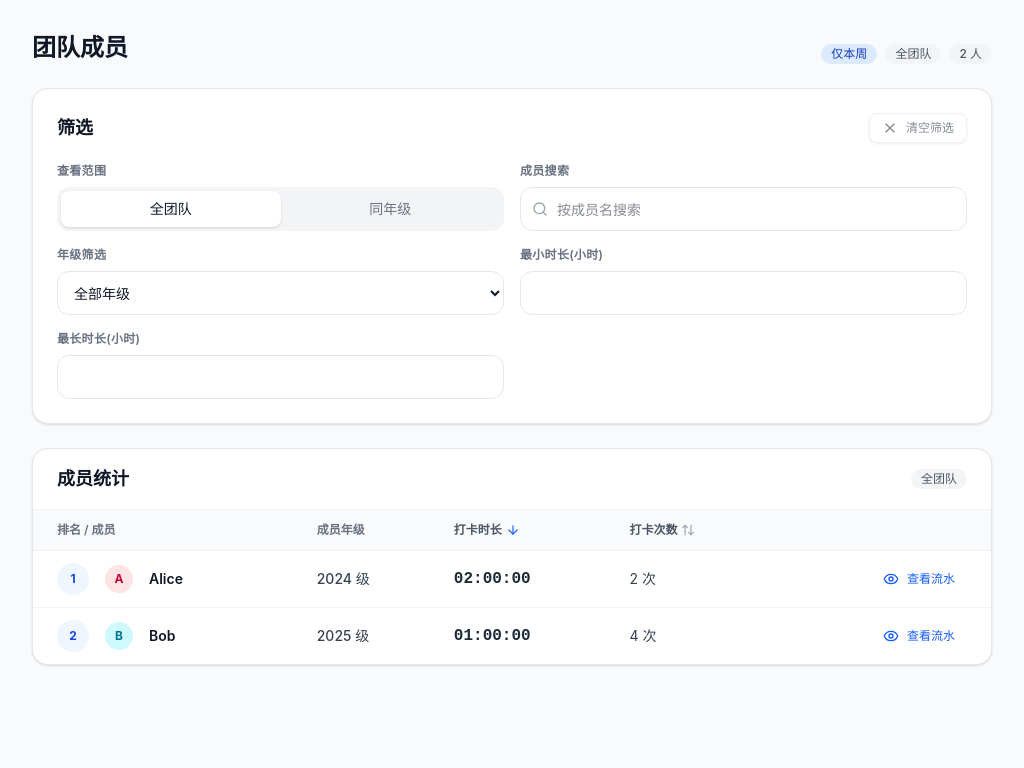
MembersPage › keeps filters in the card and sorts from the table header controls
This screenshot has width=1024, height=768.
Expected: the text "Alice" is shown, x1=149 y1=569 x2=183 y2=589
Select "全部年级" in the dropdown named "grade-filter" at (280, 293), box x1=57 y1=271 x2=504 y2=315
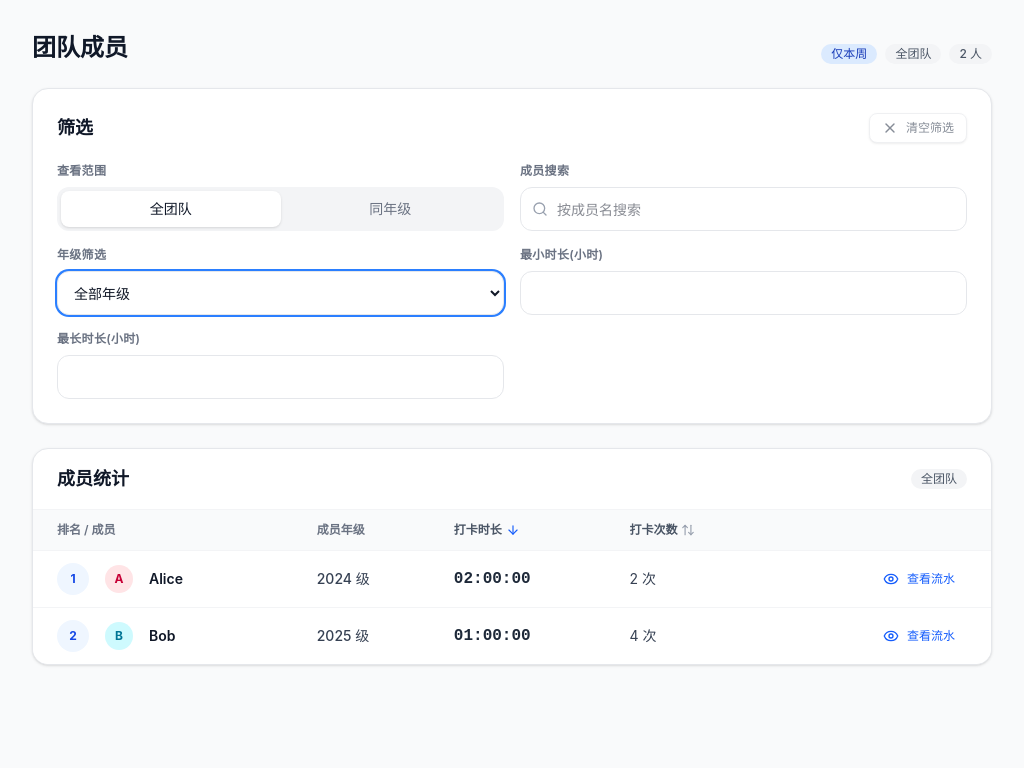
Click the button with aria-label "sort-count" at (662, 530), box x1=629 y1=522 x2=695 y2=538
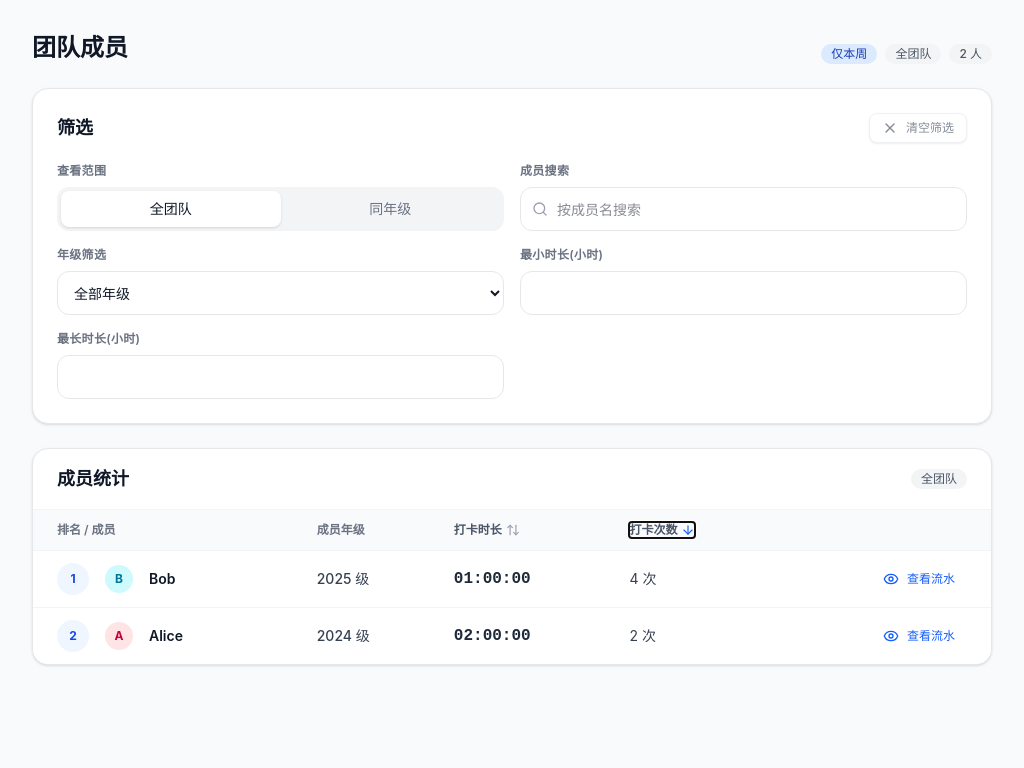
Expected: the text "Bob" is shown, x1=149 y1=569 x2=176 y2=589
